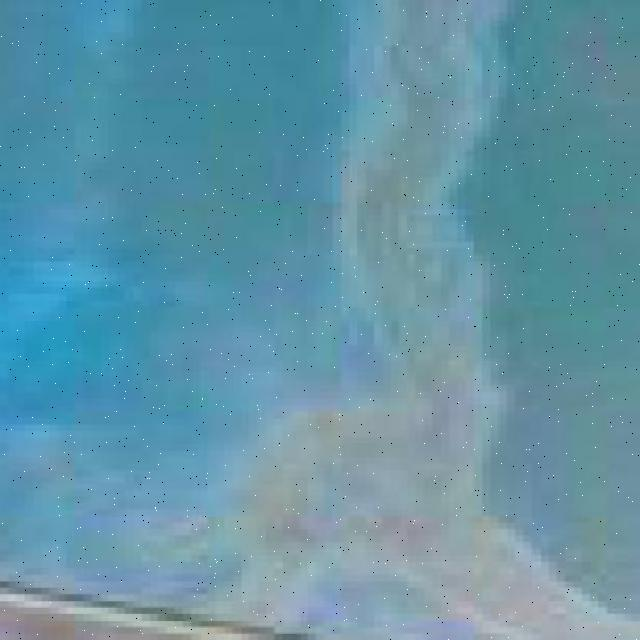oil: (7, 352, 639, 640), (329, 1, 546, 348)
